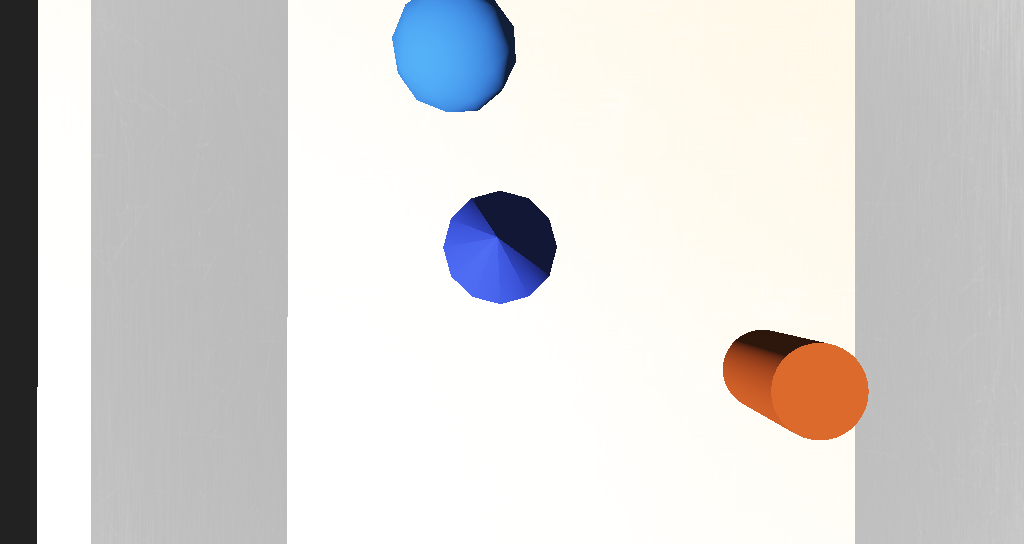cone: (586, 293, 640, 327)
cylinder: (435, 236, 495, 279)
sphere: (411, 169, 478, 212)
